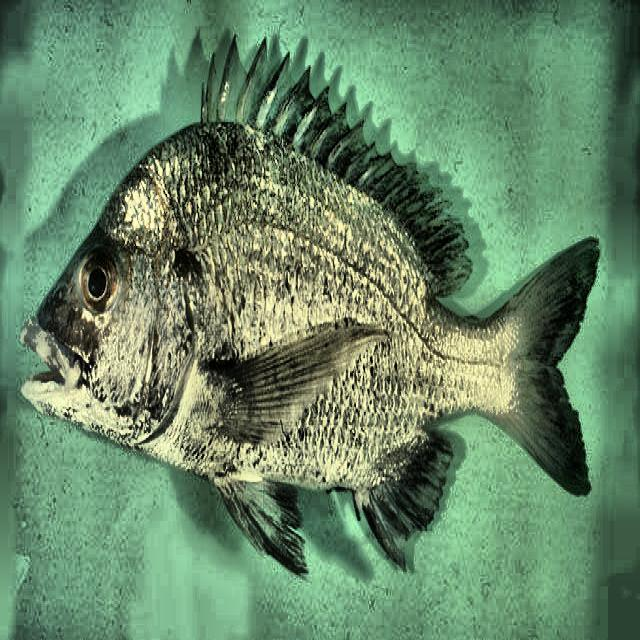fish: (21, 33, 595, 583)
